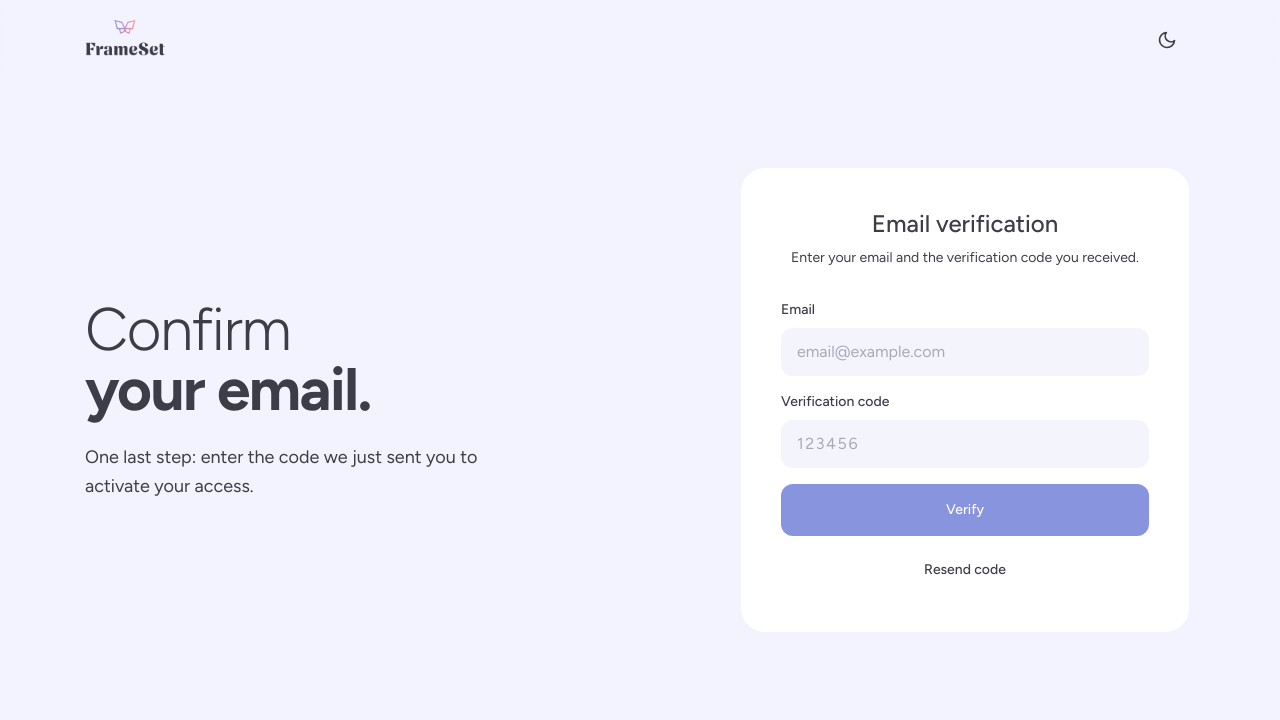
Test: Verify › demands the email before resending when none was provided
The width and height of the screenshot is (1280, 720).
Click the button "Resend code": (965, 570) [781,548,1149,592]
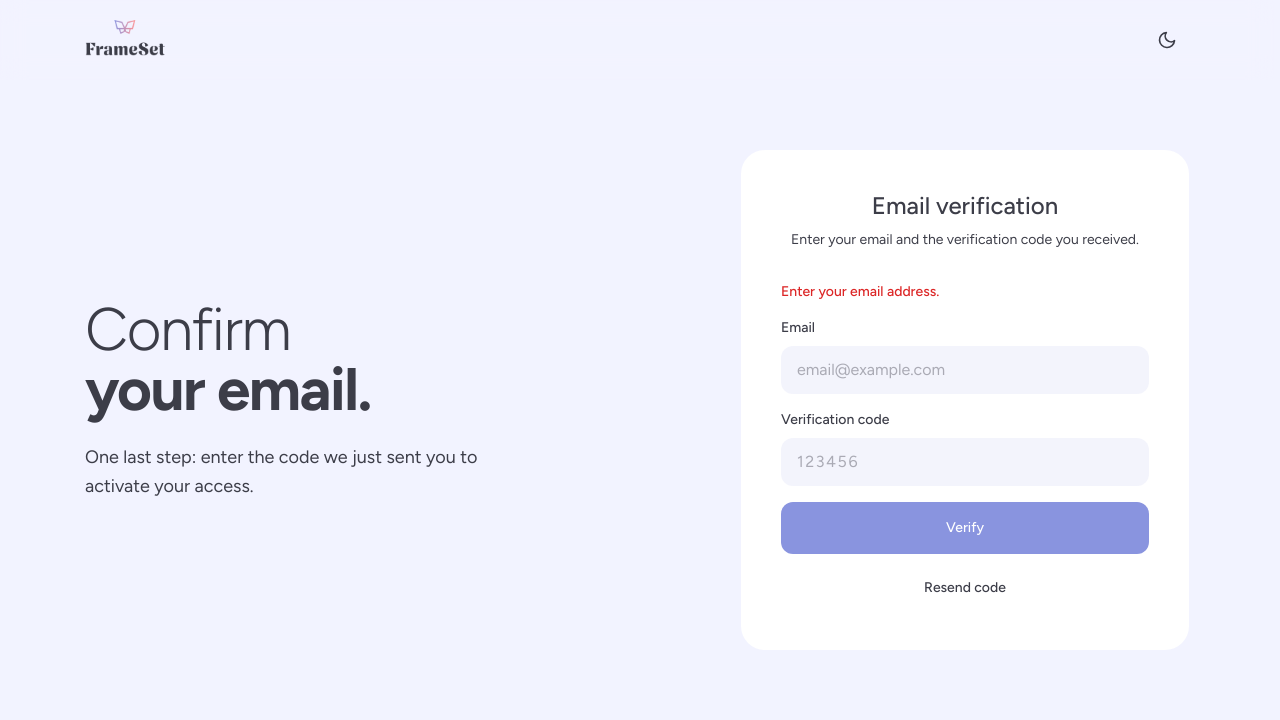
Expected: the text "Enter your email address." is shown, [781,283,939,300]
